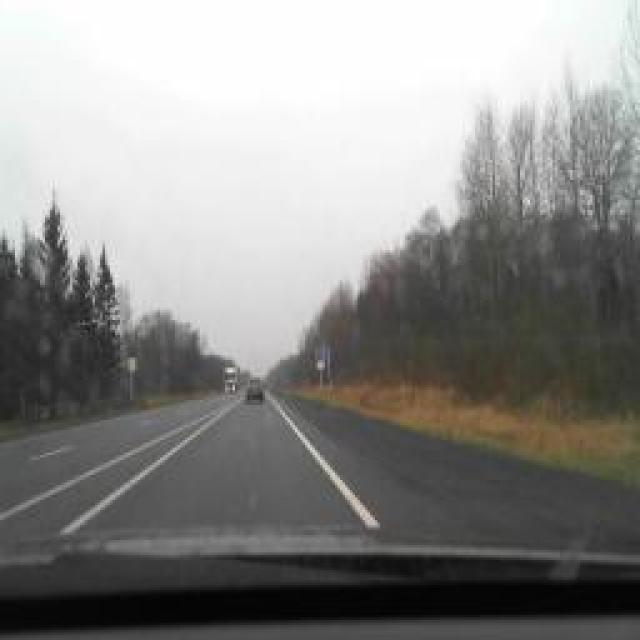sign: (315, 345, 333, 363)
